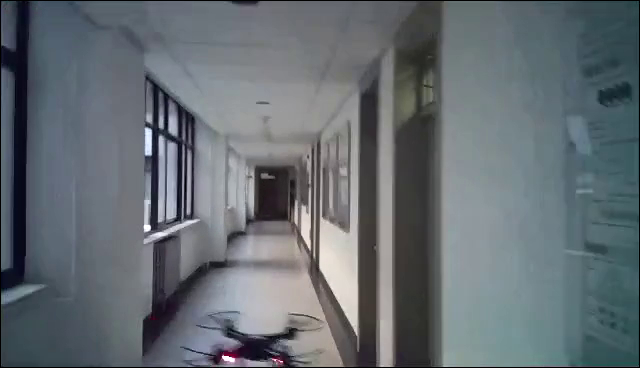drone: (177, 303, 325, 368)
